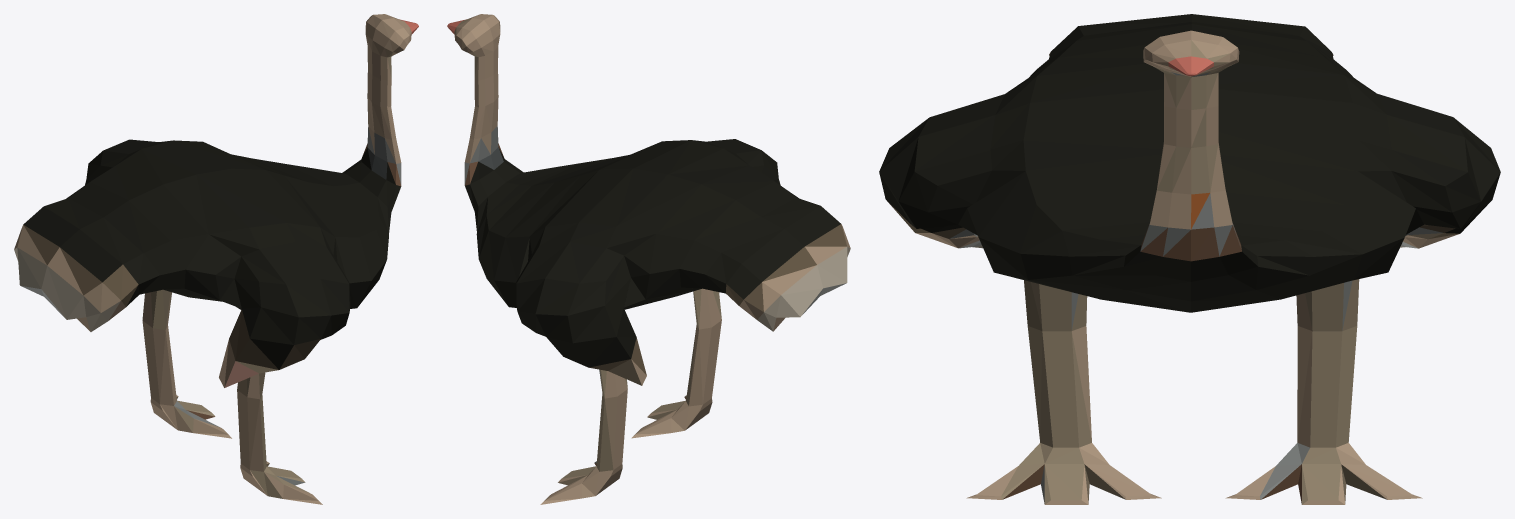
The model's file is ostrich.glb.
3 views of the same model, side by side, from view 1: azimuth 30°, elevation 25°; view 2: azimuth 150°, elevation 25°; view 3: azimuth 270°, elevation 25° (orthographic). The views are drawn at different scales.
Size of the model in its own units: 1 by 1 by 1.
